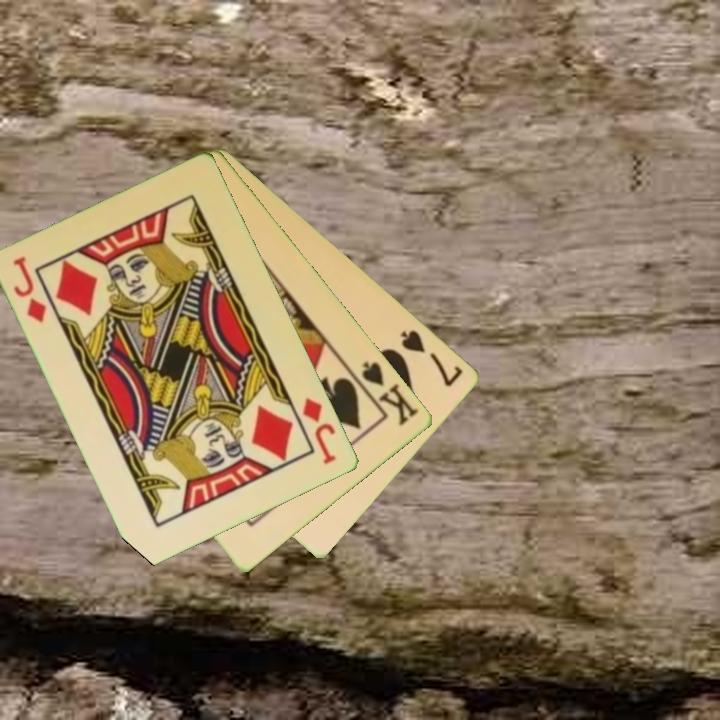7s: (397, 326, 467, 390)
Jd: (299, 394, 340, 468), (10, 253, 50, 327)
Ks: (349, 357, 422, 429)
